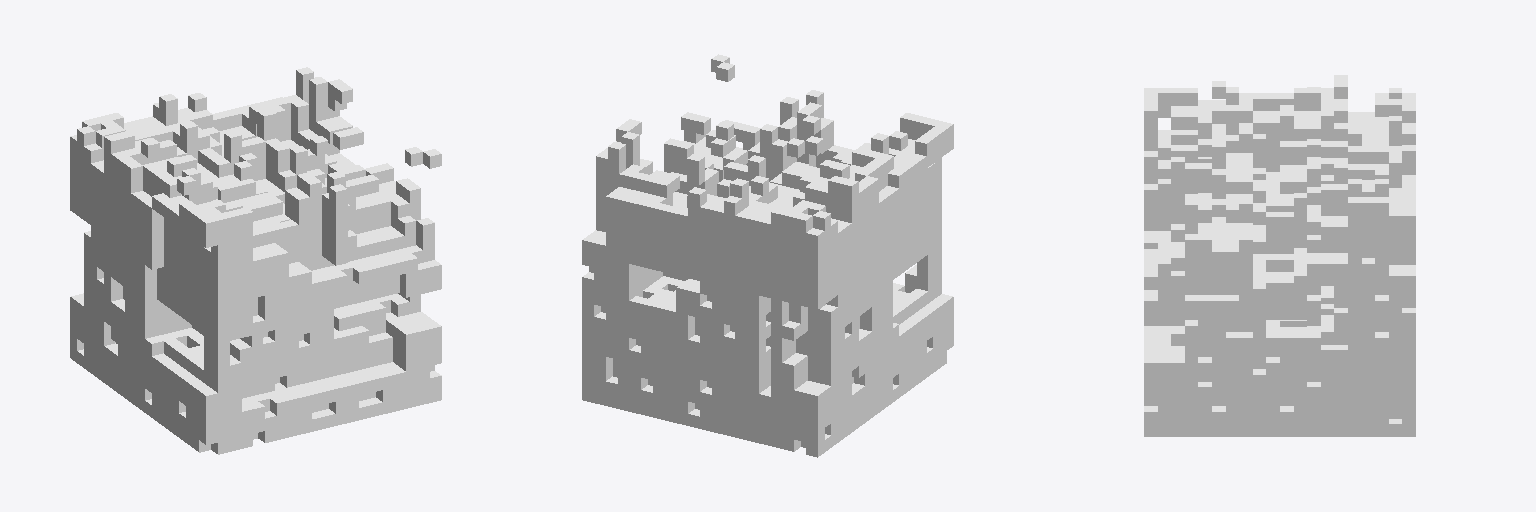
Rendered from SpikeVar4.obj.
3 views of the same model, side by side, from view 1: azimuth 30°, elevation 25°; view 2: azimuth 150°, elevation 25°; view 3: azimuth 270°, elevation 25° (orthographic).
Parts seen in each view (by area): view 1: object 1; view 2: object 1; view 3: object 1.
Boxes of the visible parts, x1=… form: object 1: x1=70, y1=67, x2=441, y2=454; object 1: x1=582, y1=54, x2=953, y2=457; object 1: x1=1144, y1=75, x2=1415, y2=436.
Size of the model in its own units: 2 by 2 by 2.